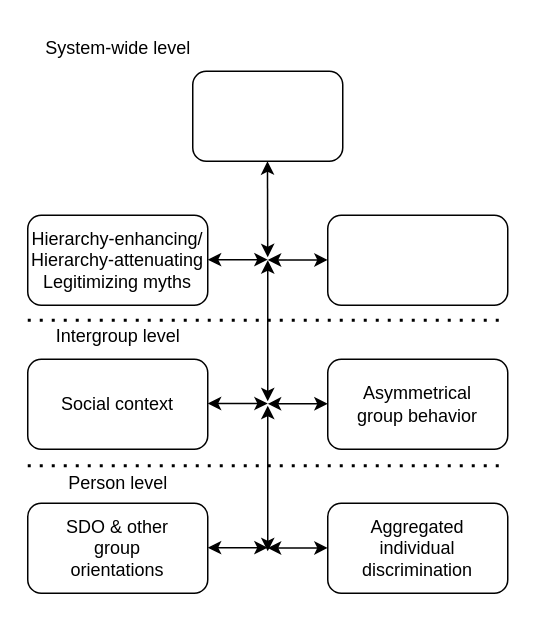
Some shapes in this 536 by 620 pixel diagram are drawn without their labels. The box of each missing label's shape, as (x1, y1, x2, y2) in pixels:
Group-based hierarchy: (191, 70, 343, 161)
Hierarchy-enhancing/ Hierarchy-attenuating Social institutions: (326, 214, 508, 305)
